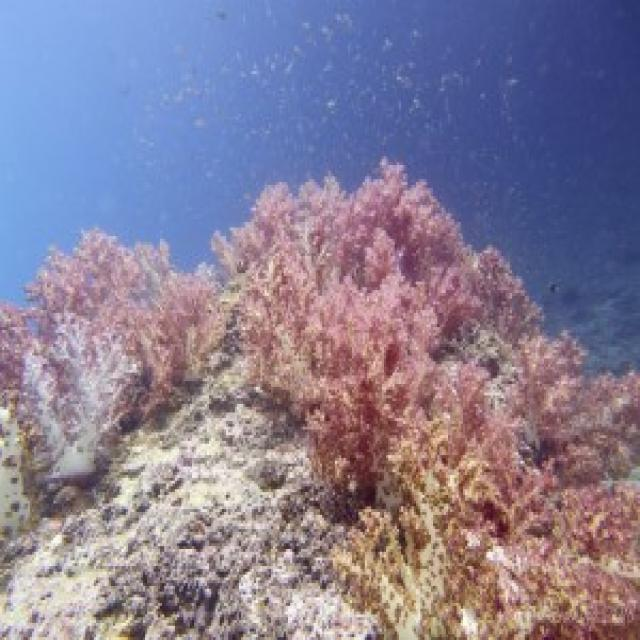Bleached: (3, 354, 379, 638)
Healthy: (214, 163, 539, 342), (1, 231, 219, 448), (242, 254, 434, 470), (337, 438, 503, 640), (483, 459, 639, 638), (391, 334, 541, 516), (22, 314, 140, 479), (511, 334, 639, 485), (116, 271, 223, 419)
